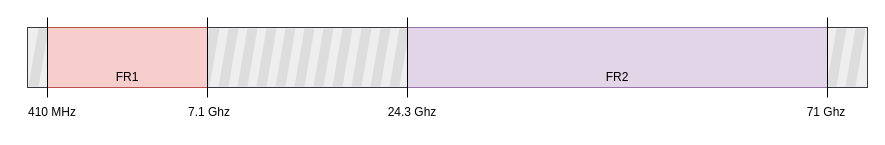
Some shapes in this 885 by 145 pixel diagram are drawn without their labels. Each missing label, with the centre of its shape:
5G NR mmWave: [617,57]
5G NR sub-5GHz: [127,57]
